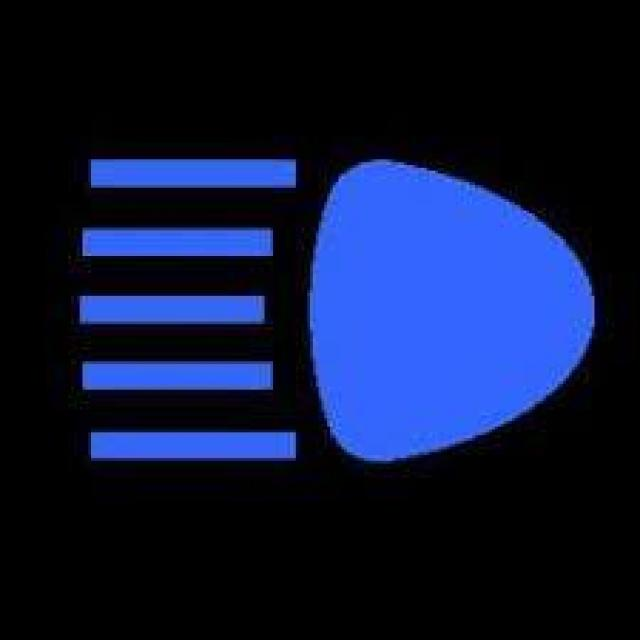kontrolka: (59, 129, 618, 497)
